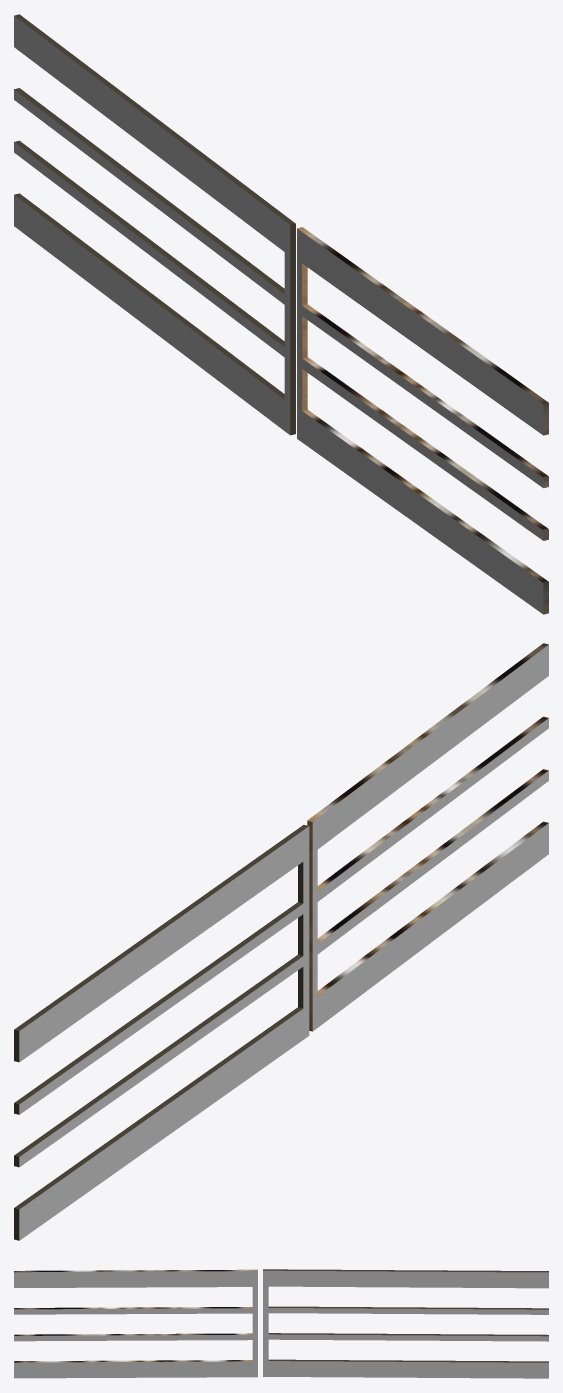
The model's file is Gates.fbx.
The picture shows the model from 3 angles, top to bottom: view 1: azimuth 30°, elevation 25°; view 2: azimuth 150°, elevation 25°; view 3: azimuth 270°, elevation 25°; orthographic projection. The views are drawn at different scales.
Visible parts, largest first — view 1: Shop3.001; view 2: Shop3.001; view 3: Shop3.001.
Boxes of the visible parts, bbox=[...] form: Shop3.001: bbox=[14, 14, 548, 614]; Shop3.001: bbox=[14, 643, 548, 1240]; Shop3.001: bbox=[14, 1269, 548, 1378].
Size of the model in its own units: 37.63 by 589 by 2692.
